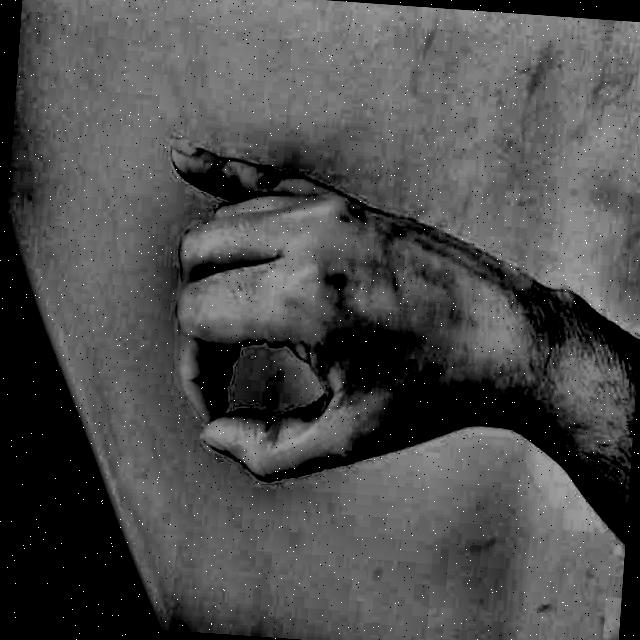Ou: (122, 108, 542, 534)
